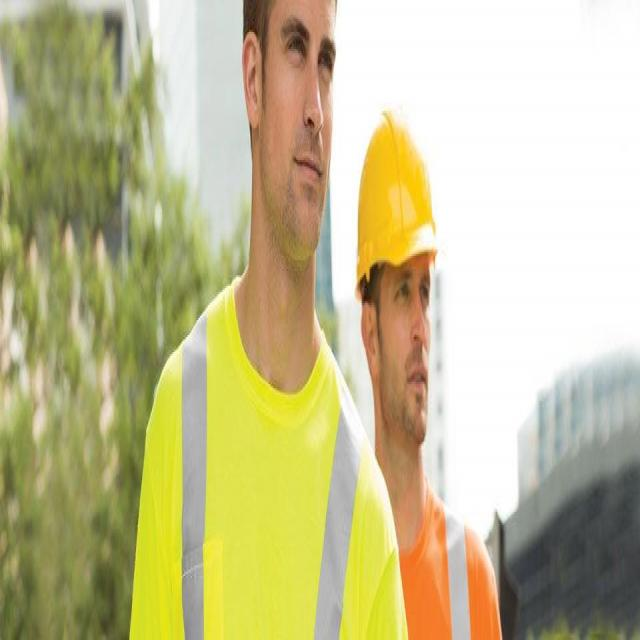Reflective-Jacket: (131, 298, 391, 640), (398, 491, 503, 638)
Safety-Helmet: (352, 98, 441, 297)
